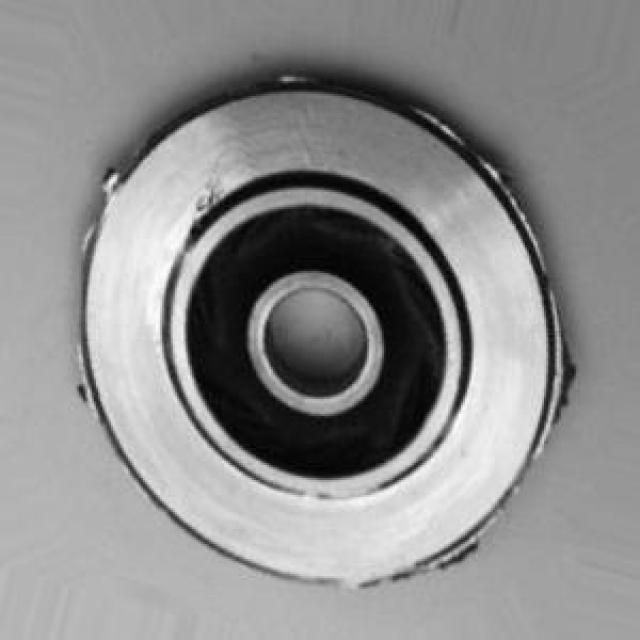Defect: (551, 342, 589, 403), (188, 186, 224, 224)
